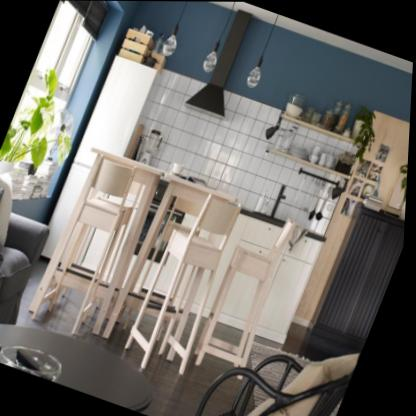Chair: (190, 201, 311, 384)
Sofa: (0, 167, 71, 363)
Table: (0, 295, 173, 415)
